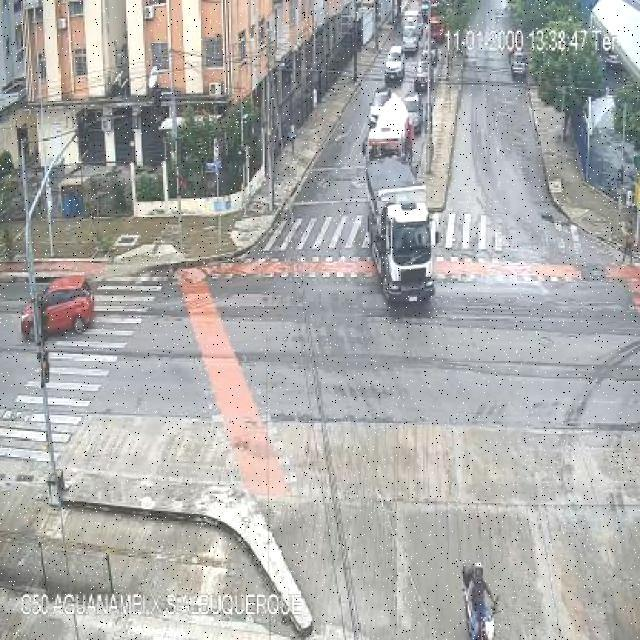Car: (21, 276, 94, 339), (368, 87, 391, 128), (402, 96, 422, 134), (384, 46, 404, 82), (509, 49, 528, 79), (418, 40, 439, 67), (414, 59, 430, 91)
Truck: (363, 164, 436, 304), (401, 8, 422, 53)
